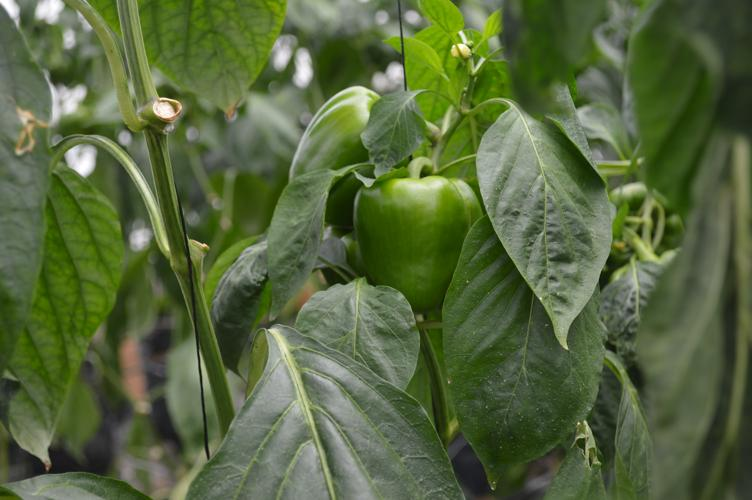BellPepper: (357, 176, 471, 308), (279, 86, 374, 230)
